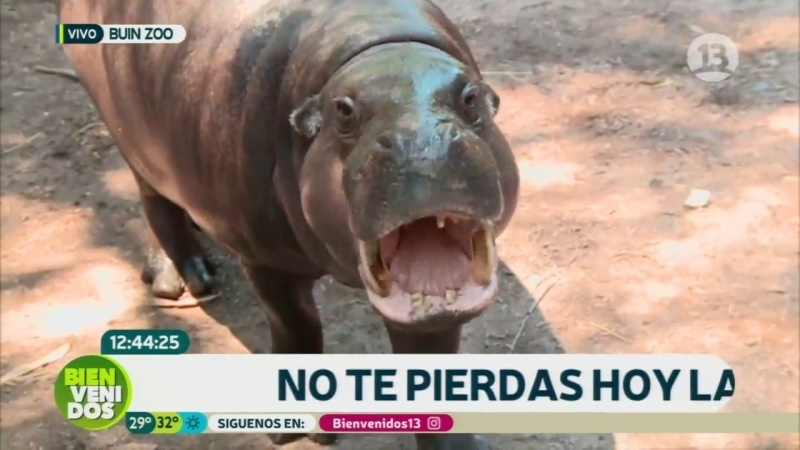hipopotamo: (52, 1, 532, 352)
